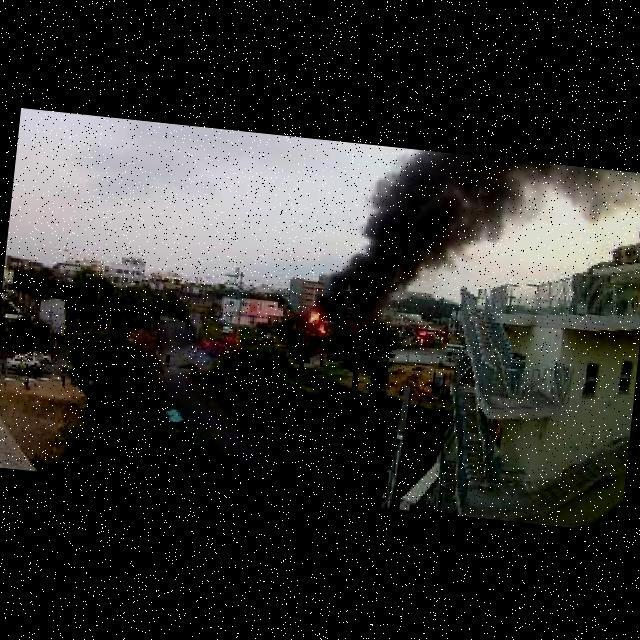Fire: (306, 311, 321, 322), (317, 324, 326, 331)
Smoke: (320, 141, 530, 344)
